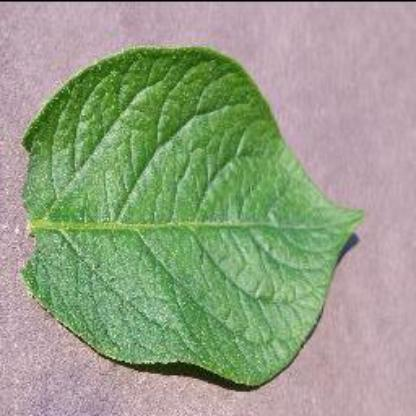Healthy-plant: (19, 46, 376, 398)
